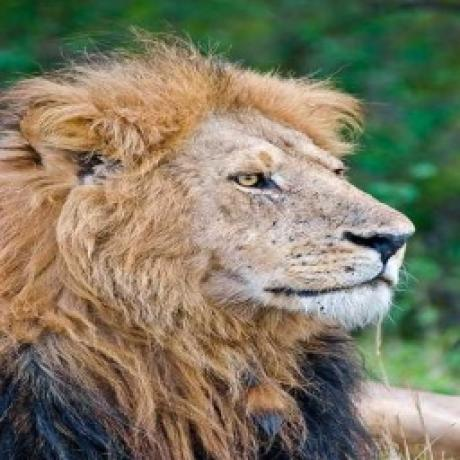Lion: (0, 27, 419, 460)
